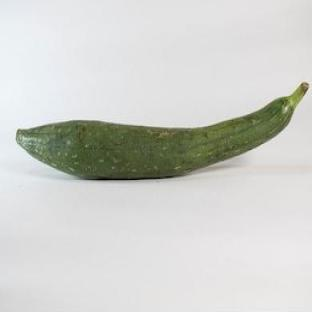Zucchini: (16, 83, 308, 178)
